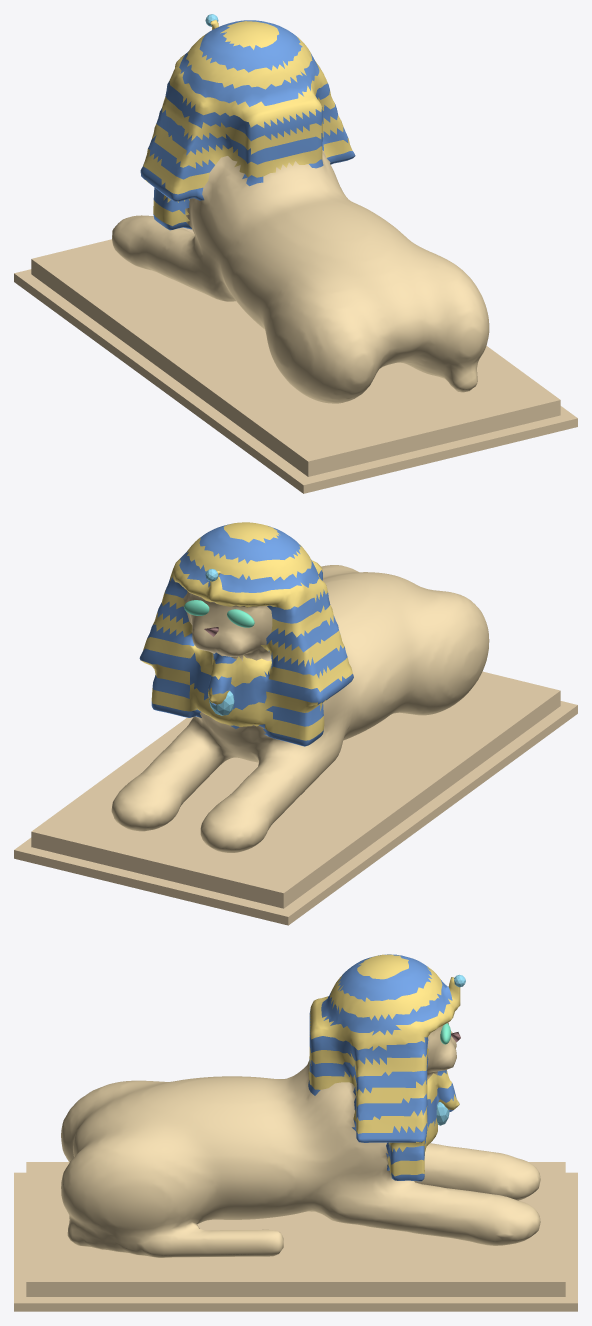
The model's file is SandSphinx.glb.
3 renders of one model, top to bottom at view 1: azimuth 30°, elevation 25°; view 2: azimuth 150°, elevation 25°; view 3: azimuth 270°, elevation 25°, orthographic. The views are drawn at different scales.
Parts seen in each view (by area): view 1: Plinth, Body, Nemes, NemesBlue; view 2: Plinth, Body, Nemes, NemesBlue, Eyes; view 3: Body, Plinth, Nemes, NemesBlue.
Part boxes in pixels (left/top/right/bottom): Plinth: left=14, top=227, right=577, bottom=493; Body: left=112, top=150, right=489, bottom=403; Nemes: left=143, top=20, right=352, bottom=225; NemesBlue: left=140, top=20, right=355, bottom=230; Plinth: left=14, top=671, right=577, bottom=925; Body: left=111, top=565, right=489, bottom=852; Nemes: left=141, top=522, right=352, bottom=740; NemesBlue: left=139, top=524, right=353, bottom=746; Eyes: left=184, top=600, right=254, bottom=627; Body: left=61, top=1022, right=540, bottom=1257; Plinth: left=14, top=1162, right=577, bottom=1311; Nemes: left=308, top=954, right=460, bottom=1176; NemesBlue: left=308, top=954, right=456, bottom=1181.
Size of the model in its own units: 35.57 by 36.18 by 65.01.
